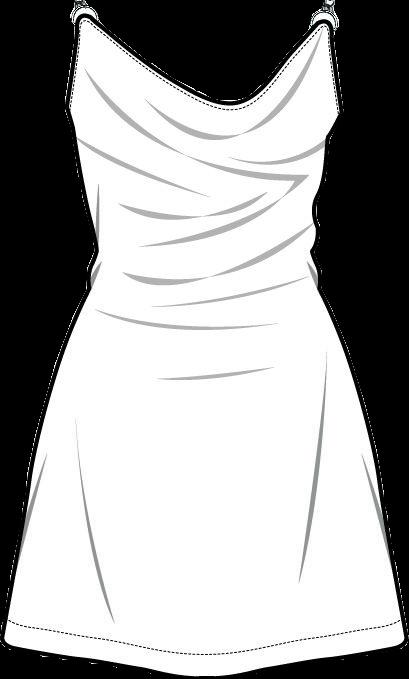Bodice: (65, 0, 342, 290)
Hemline: (0, 639, 408, 678)
Neckline: (79, 0, 329, 106)
Skirt: (2, 288, 406, 675)
